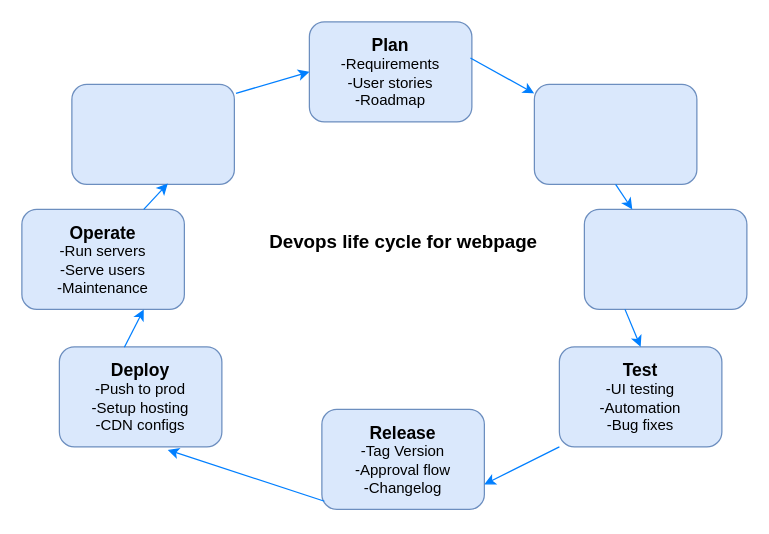
The diagram is 769 pixels wide and 534 high, and some of its shapes have lost their labels. The shapes that lost their labels are listed below. From the top down, each one's centre as x and y in pixels, then its label:
At point (152, 133): "Monitor -Uptime logs -Error logs -Feedback".
At point (615, 133): "Develop -Write code -HTML/CSS/JS -Version control".
At point (665, 258): "Build -Compile assets -Bundle files -Run unit tests".
